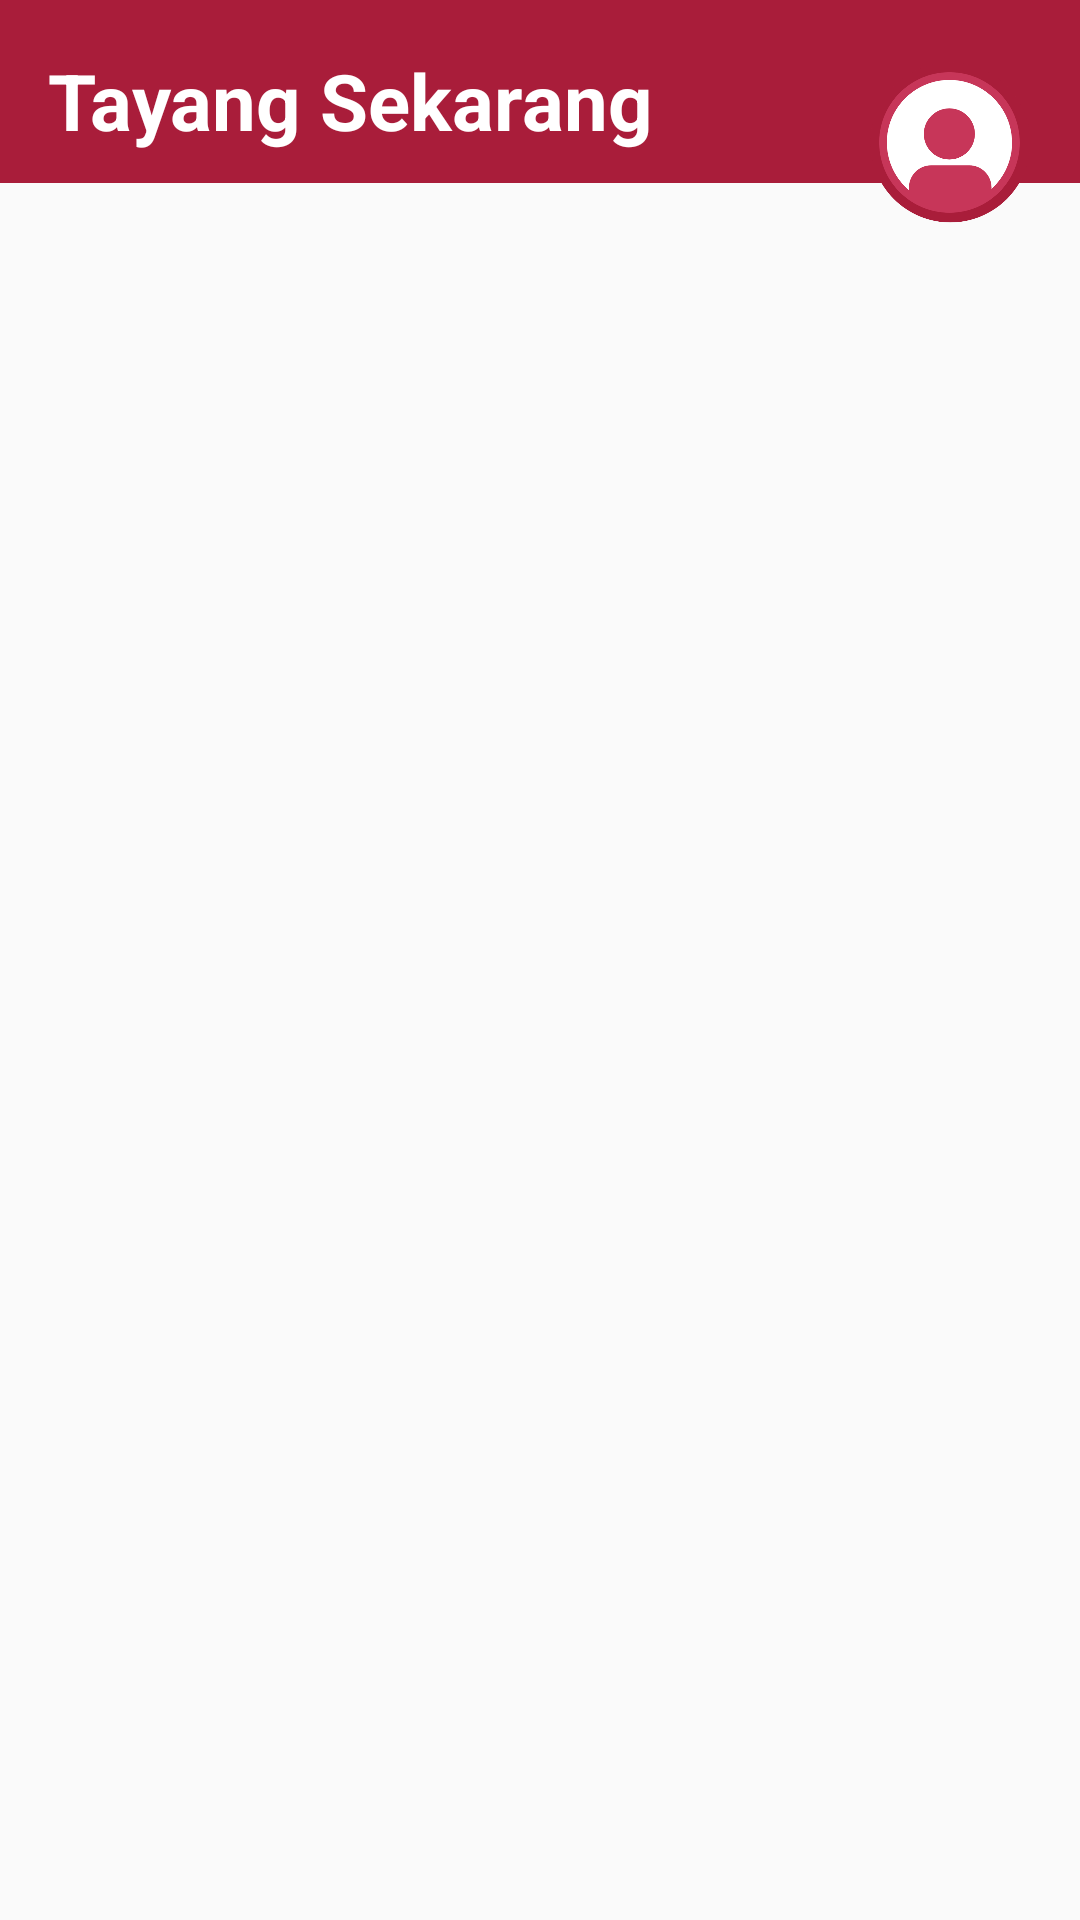

Locate icon controls on the screen. Image size 1080 x 1920, boxes as (x1, y1, x2, y2).
Foto profil: (879, 72, 1020, 213)
